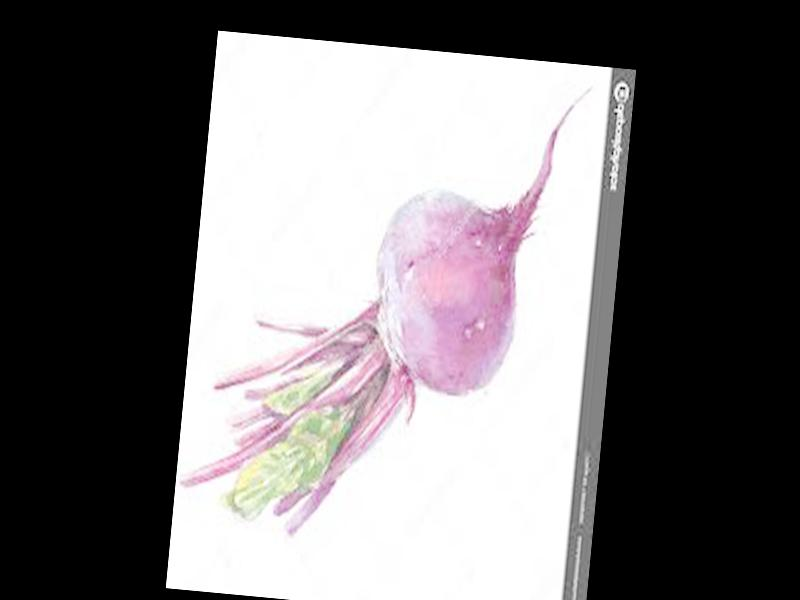Beet: (175, 54, 590, 559)
